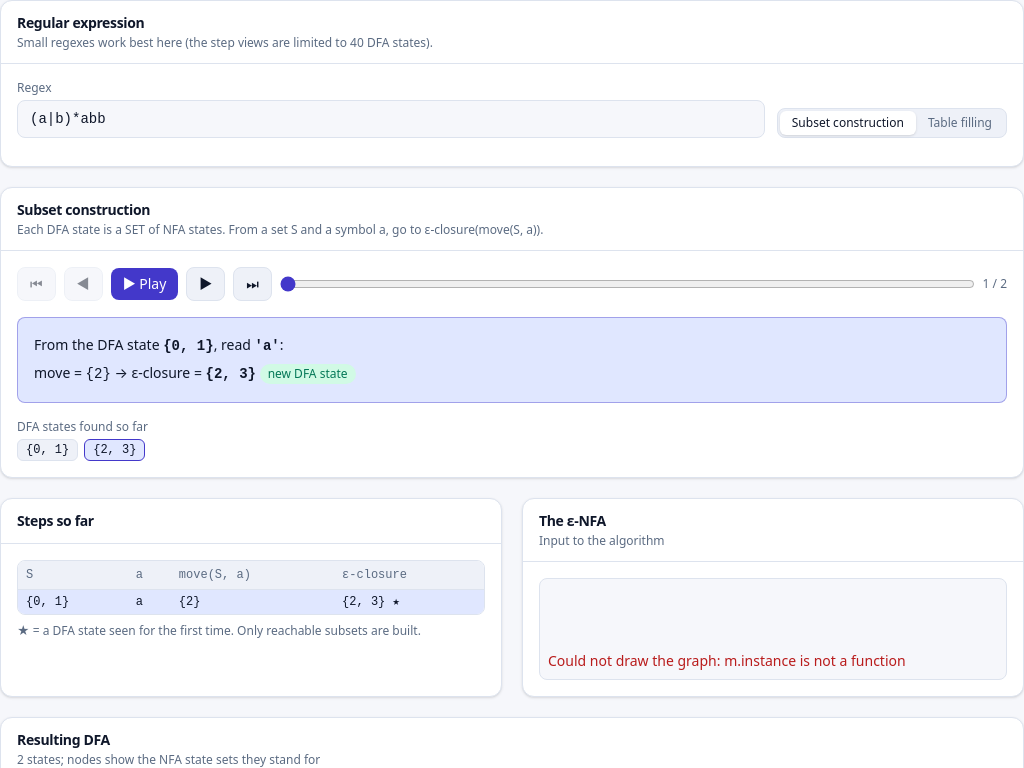
Test: Learn page › steps through subset construction
This screenshot has width=1024, height=768.
expect the text "From the DFA state {0, 1}, read 'a':" is shown: met, box [34,335,284,354]
expect the text "1 / 2" is shown: met, box [982,276,1007,292]
Click the button named "Next step".
click(206, 284)  # box [186,267,225,301]
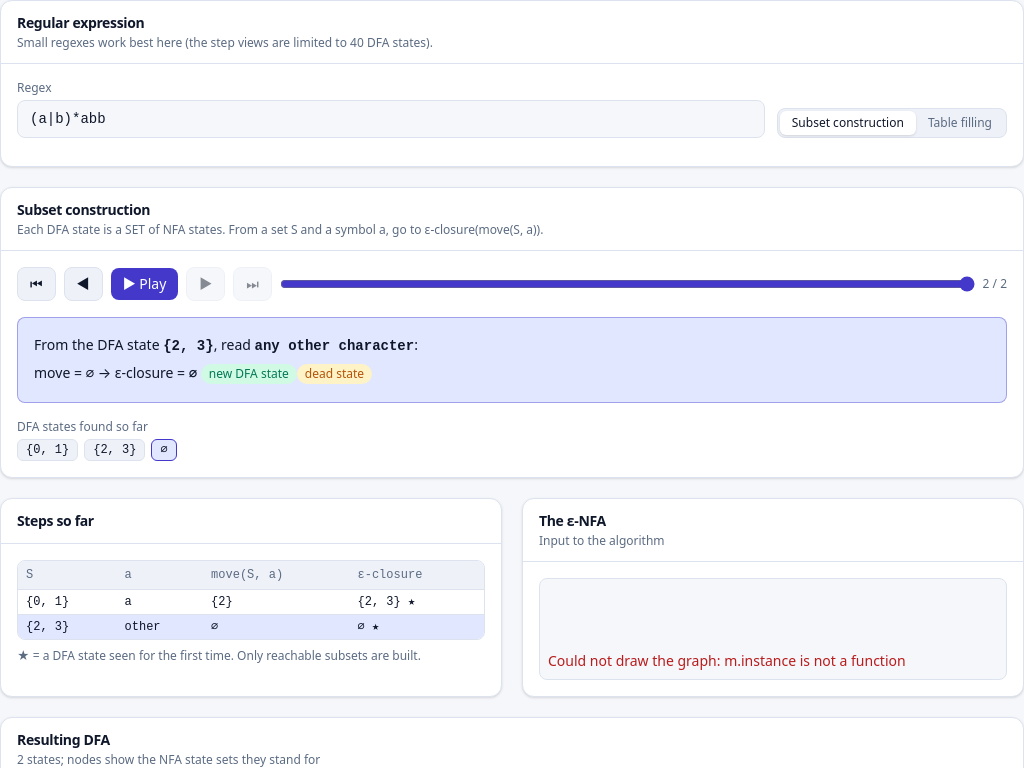
expect the text "2 / 2" is shown: met, box [982,276,1007,292]
expect the text "dead state" is shown: met, box [297,364,372,384]
expect the text "any other character" is shown: met, box [254,338,414,354]
